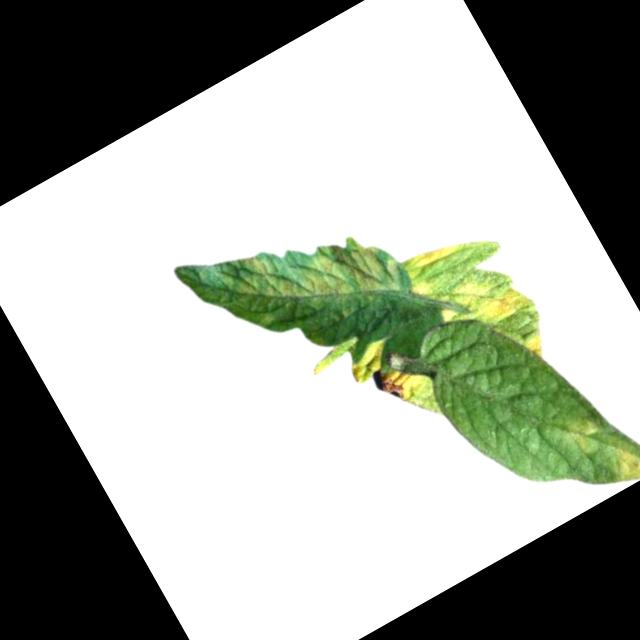Leaf_Mold: (212, 186, 409, 366), (431, 257, 535, 350), (342, 328, 428, 419), (405, 231, 466, 277), (562, 413, 609, 461), (604, 442, 640, 489), (521, 331, 553, 365)
